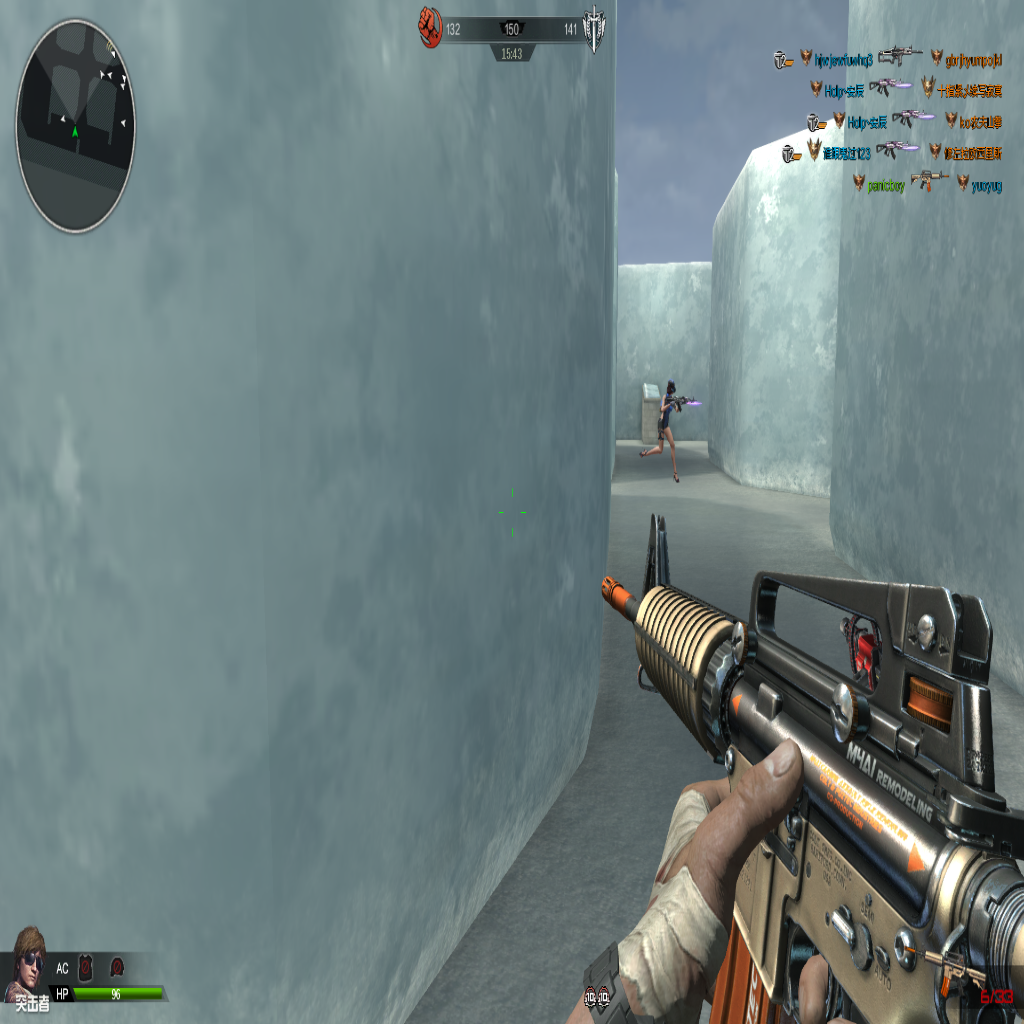ct: (640, 381, 698, 481)
